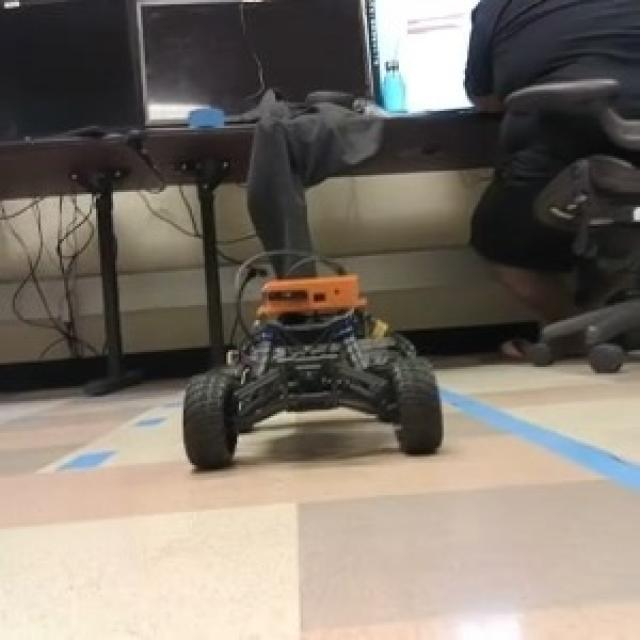obstacle: (174, 268, 454, 486)
